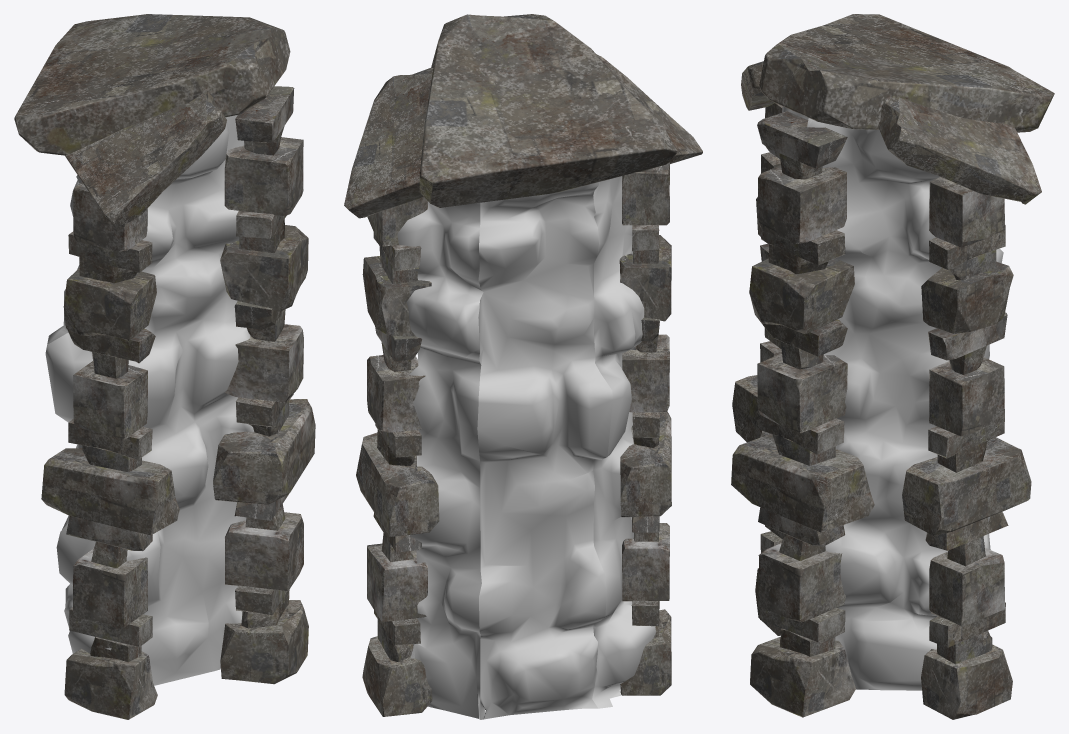
The model's file is SM_Crenel_A_Pillar.fbx.
3 views of the same model, side by side, from view 1: azimuth 30°, elevation 25°; view 2: azimuth 150°, elevation 25°; view 3: azimuth 270°, elevation 25° (orthographic).
Visible parts, largest first — view 1: SM_Crenel_A_Pillar_LOD0; view 2: SM_Crenel_A_Pillar_LOD0; view 3: SM_Crenel_A_Pillar_LOD0.
Part boxes in pixels (left/top/right/bottom): SM_Crenel_A_Pillar_LOD0: left=14, top=14, right=315, bottom=719; SM_Crenel_A_Pillar_LOD0: left=344, top=14, right=702, bottom=719; SM_Crenel_A_Pillar_LOD0: left=731, top=14, right=1054, bottom=719.
Size of the model in its own units: 137 by 135 by 291.
